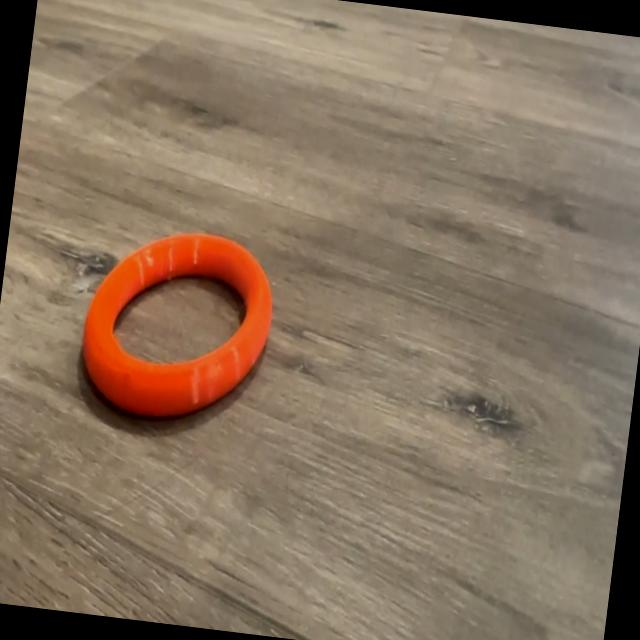note: (71, 218, 280, 434)
